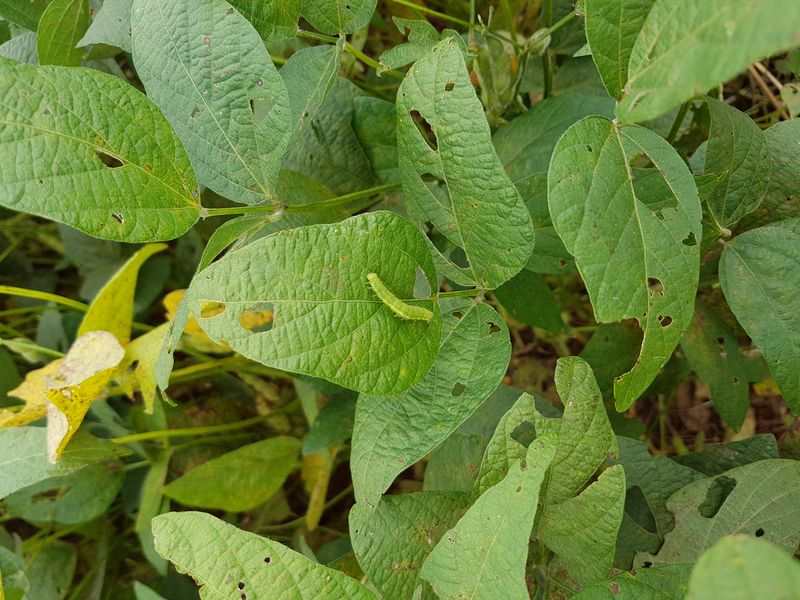Anticarsia_gemmatalis: (356, 264, 442, 336)
